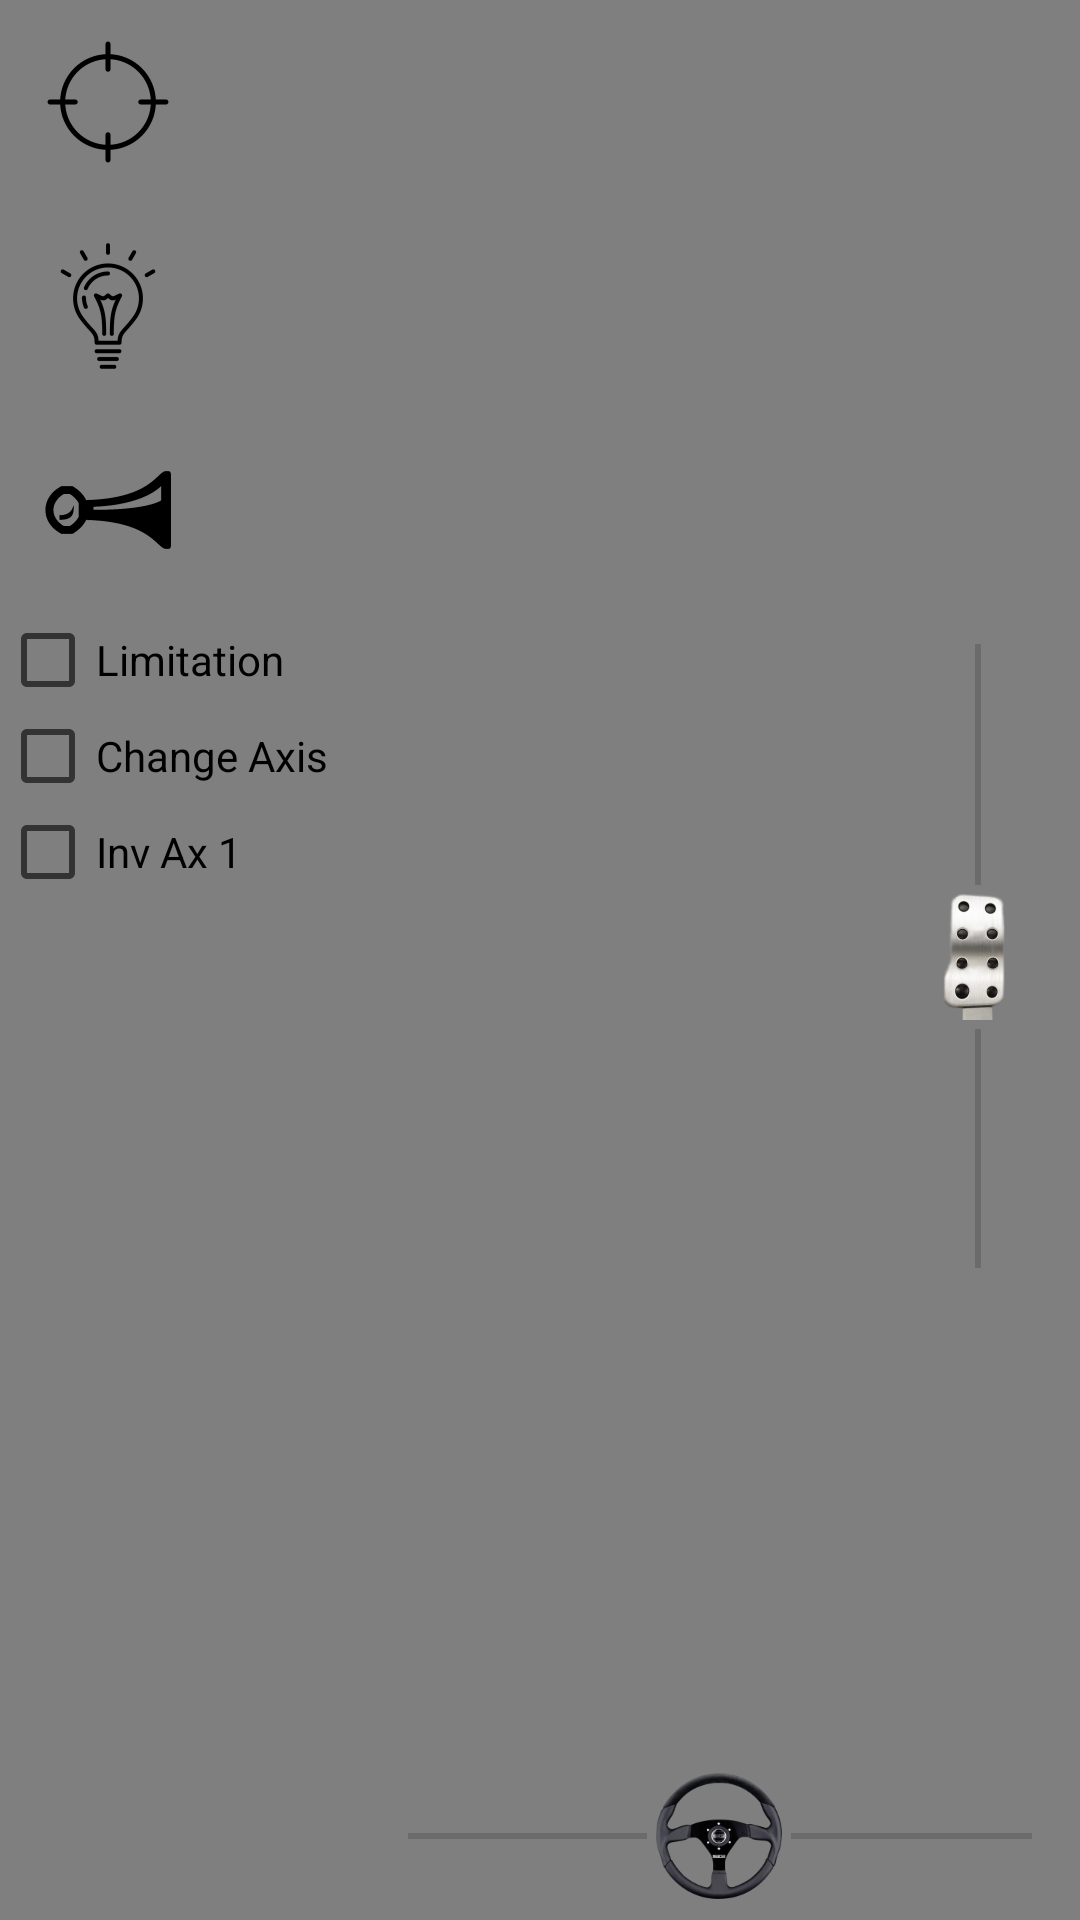

Icons on this 1080px×1920px Android screen, each with its box as region(x1, y1, x2, y2):
bulb off: region(60, 243, 156, 369)
calibration off: region(47, 41, 169, 163)
signal horn off: region(45, 471, 171, 549)
